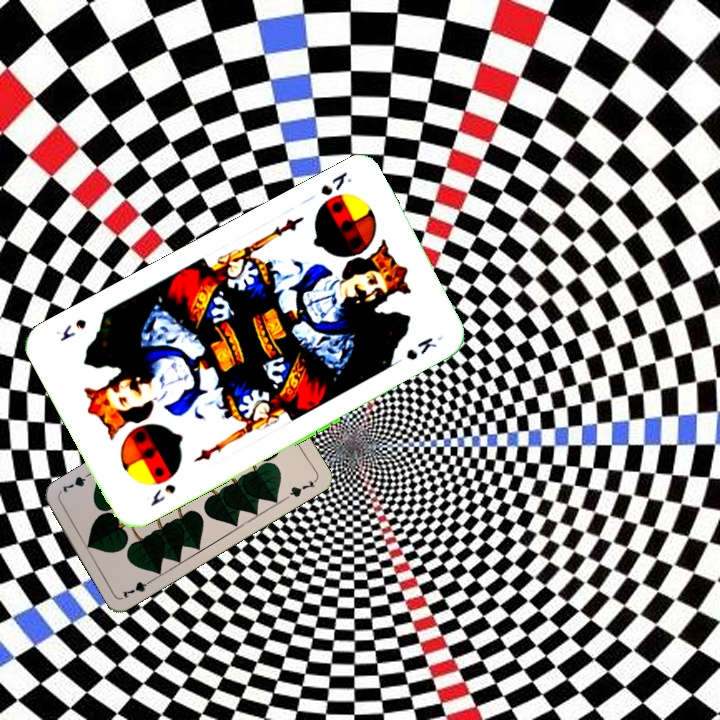G7: (118, 574, 157, 601)
SK: (302, 167, 355, 206), (146, 480, 179, 509)
